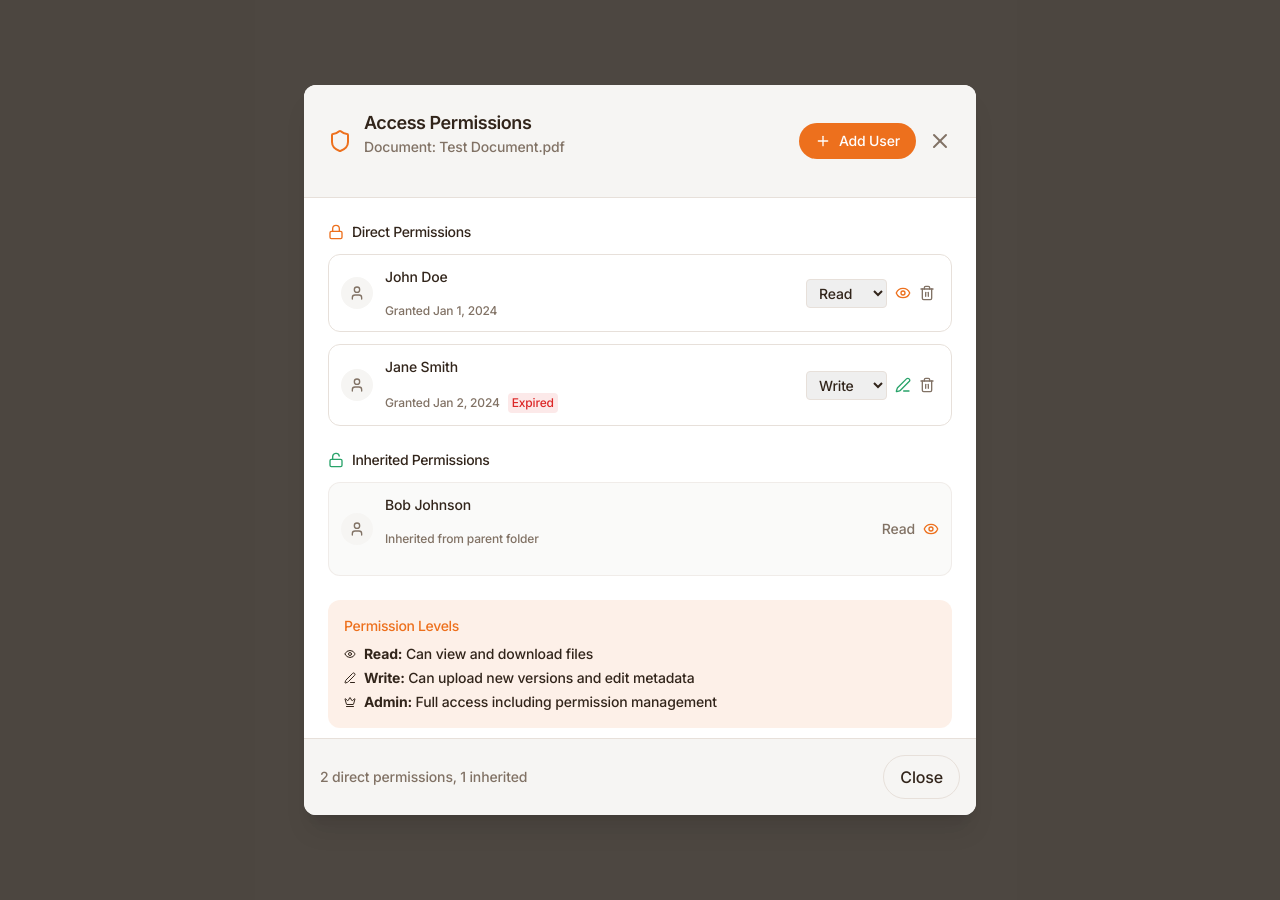
Test: DocumentPermissions › Add Permission › should show add user modal when Add User button is clicked
Click the button "Add User" at {"x": 857, "y": 141}, box [799,123,916,159]
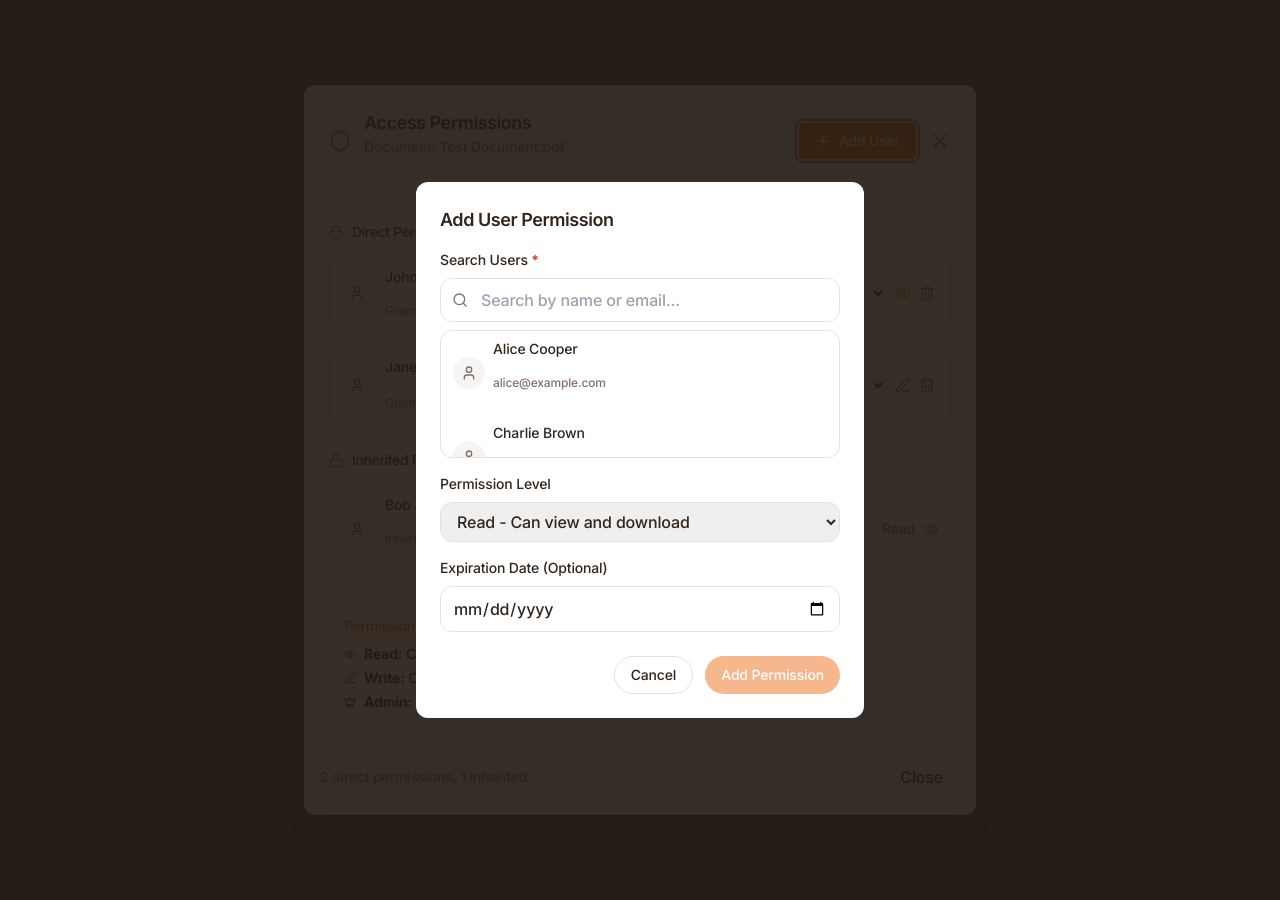
Result: the heading "Add User Permission" is shown at [440,209,614,230]
